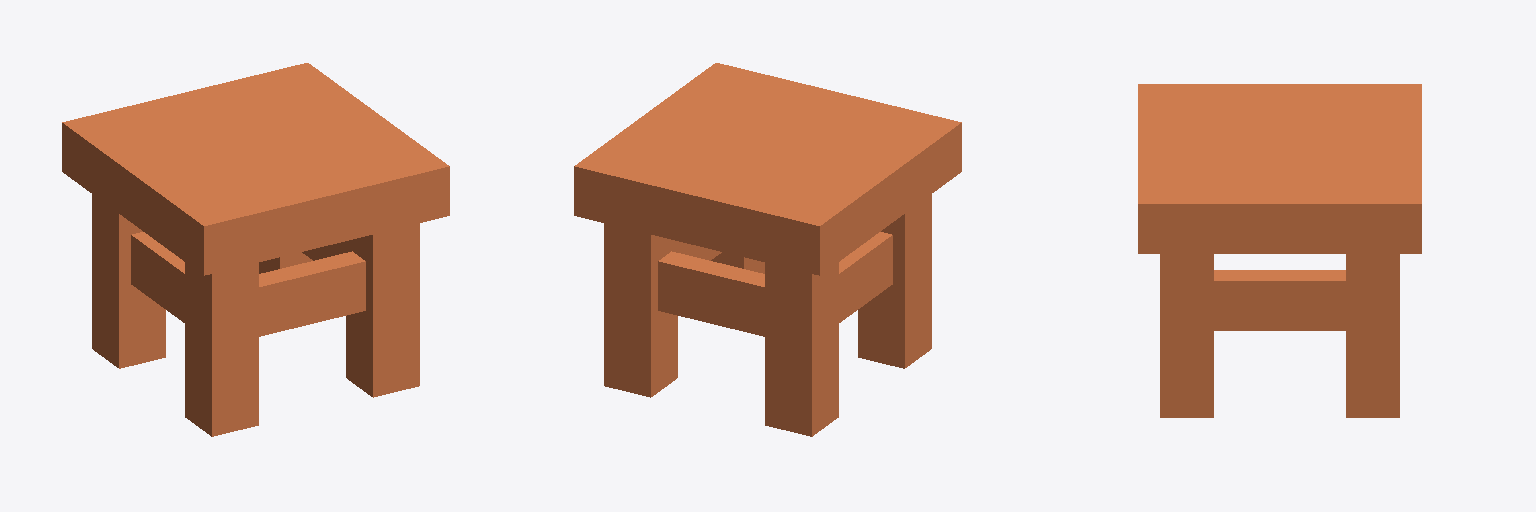
File: stallStool.obj
The picture shows the model from 3 angles: view 1: azimuth 30°, elevation 25°; view 2: azimuth 150°, elevation 25°; view 3: azimuth 270°, elevation 25°; orthographic projection.
Visible parts, largest first — view 1: stallStool; view 2: stallStool; view 3: stallStool.
Part boxes in pixels (bbox=[...]): stallStool: bbox=[62, 63, 449, 436]; stallStool: bbox=[574, 63, 961, 436]; stallStool: bbox=[1138, 84, 1421, 417].
Size of the model in its own units: 0.26 by 0.2255 by 0.26.